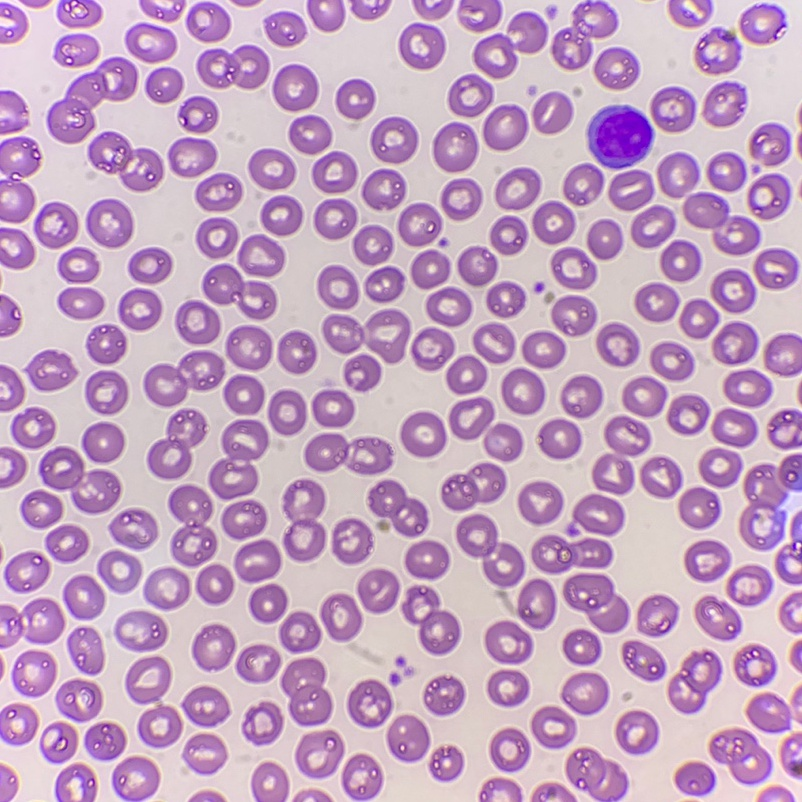RBC: (48, 58, 137, 143), (740, 455, 801, 549), (40, 446, 120, 513), (457, 514, 523, 586), (473, 14, 545, 78), (209, 420, 268, 498), (323, 310, 409, 363), (683, 193, 757, 254), (449, 398, 521, 460), (593, 416, 649, 494), (89, 132, 163, 191), (145, 352, 224, 406), (551, 4, 615, 69), (402, 586, 459, 654), (203, 265, 276, 318), (149, 409, 204, 478), (563, 573, 627, 632), (169, 485, 216, 565), (305, 433, 391, 474), (281, 658, 332, 724), (284, 480, 325, 560), (369, 480, 427, 536), (566, 748, 626, 801), (710, 729, 769, 782), (531, 535, 611, 574), (0, 598, 64, 646), (669, 651, 719, 712), (441, 463, 505, 510), (198, 48, 269, 88), (587, 112, 643, 150), (296, 731, 343, 776), (347, 680, 392, 726), (88, 200, 132, 247), (273, 65, 318, 110), (371, 118, 416, 163), (433, 124, 476, 171), (399, 25, 444, 69), (401, 412, 445, 457), (126, 657, 170, 702), (113, 757, 159, 800), (573, 494, 622, 534), (117, 611, 167, 650), (695, 29, 738, 74), (695, 596, 740, 639), (483, 106, 526, 150), (177, 300, 220, 344), (192, 625, 235, 669), (226, 327, 271, 369), (235, 540, 280, 582), (387, 715, 429, 760), (29, 350, 75, 391), (502, 368, 543, 414), (485, 621, 531, 662), (517, 579, 555, 628), (650, 88, 693, 131), (711, 269, 753, 313), (36, 203, 77, 248), (239, 235, 284, 276), (562, 673, 607, 714), (531, 706, 576, 747), (249, 149, 295, 189), (111, 508, 157, 548), (321, 594, 361, 640), (127, 25, 176, 62), (449, 75, 492, 117), (398, 204, 441, 246), (518, 482, 561, 524), (495, 168, 539, 209), (747, 175, 788, 219), (551, 248, 595, 289), (14, 651, 55, 695), (169, 139, 216, 177), (532, 201, 574, 243), (631, 206, 673, 248), (713, 322, 755, 364), (597, 323, 638, 366), (312, 152, 356, 192), (318, 265, 358, 309), (58, 680, 102, 720), (342, 754, 382, 798), (412, 328, 453, 370), (99, 550, 141, 591), (616, 711, 657, 753), (594, 49, 637, 89), (657, 154, 697, 197), (552, 296, 595, 336), (87, 371, 127, 414), (685, 540, 728, 580), (727, 565, 770, 605), (146, 568, 189, 608), (358, 569, 398, 612), (138, 706, 181, 746), (332, 519, 371, 563), (221, 501, 266, 539), (184, 687, 229, 725), (703, 84, 743, 126), (609, 170, 651, 210), (82, 422, 124, 462), (6, 551, 49, 590), (426, 288, 470, 326), (724, 370, 770, 406), (754, 249, 795, 289), (120, 290, 161, 330), (473, 323, 514, 363), (561, 376, 601, 417), (13, 408, 54, 448), (242, 702, 282, 743), (362, 170, 404, 209), (314, 200, 356, 239), (65, 575, 104, 617), (184, 734, 226, 773), (405, 540, 448, 578), (268, 390, 305, 434), (196, 174, 241, 210), (441, 179, 481, 219), (563, 164, 602, 205), (196, 219, 237, 258), (623, 377, 664, 416), (641, 457, 680, 498), (679, 487, 718, 528), (279, 612, 320, 651), (490, 729, 529, 770), (289, 116, 331, 154), (712, 409, 755, 446), (747, 694, 790, 731), (660, 241, 699, 281), (667, 395, 707, 434), (539, 419, 579, 458), (637, 595, 676, 635), (734, 645, 773, 685), (533, 92, 571, 133), (261, 197, 302, 235), (650, 342, 691, 380), (699, 449, 740, 487), (622, 641, 663, 679), (423, 676, 464, 714), (635, 284, 677, 321), (279, 331, 316, 373), (522, 331, 564, 368), (237, 645, 280, 681), (69, 628, 103, 673), (353, 225, 392, 264), (87, 325, 126, 364), (749, 125, 787, 165), (458, 247, 496, 287), (312, 390, 353, 427), (47, 524, 88, 561), (129, 248, 172, 283), (447, 355, 486, 393), (225, 375, 263, 414), (740, 7, 780, 44), (764, 335, 801, 375), (22, 490, 62, 527), (487, 670, 528, 706), (187, 6, 229, 41), (0, 179, 34, 222), (411, 250, 449, 288), (0, 139, 39, 176), (680, 299, 717, 338), (86, 722, 125, 759), (57, 764, 96, 801), (336, 80, 373, 118), (196, 565, 233, 603), (249, 584, 286, 622), (59, 288, 104, 319), (252, 763, 288, 801), (707, 154, 743, 191), (490, 217, 526, 254), (1, 705, 37, 742), (179, 97, 217, 132), (365, 267, 403, 302), (486, 282, 524, 317), (60, 248, 99, 282), (587, 219, 620, 259), (458, 0, 500, 31), (563, 629, 600, 664), (0, 230, 34, 268), (43, 723, 77, 761), (146, 69, 183, 103), (768, 410, 801, 448), (344, 356, 380, 390), (266, 14, 304, 46), (675, 762, 713, 794), (57, 37, 98, 66), (308, 0, 344, 31), (0, 365, 24, 411), (60, 1, 101, 27), (0, 447, 26, 488), (430, 747, 463, 779), (479, 778, 521, 801), (0, 8, 26, 43), (0, 295, 19, 336), (532, 783, 574, 801), (413, 0, 452, 19), (352, 0, 384, 19), (781, 747, 801, 777), (0, 92, 25, 115), (669, 0, 691, 25), (780, 607, 801, 631), (0, 772, 16, 801), (782, 541, 801, 561), (141, 0, 160, 17), (770, 787, 792, 801), (192, 791, 222, 801), (0, 121, 17, 134), (619, 151, 634, 165), (24, 0, 47, 7), (785, 573, 801, 583), (695, 0, 709, 11), (314, 792, 329, 801), (173, 0, 185, 10), (793, 689, 801, 704), (236, 0, 255, 6), (793, 733, 801, 746), (792, 593, 801, 604), (162, 13, 173, 21), (380, 522, 388, 530), (405, 667, 413, 675), (796, 661, 801, 669), (797, 641, 801, 650), (797, 713, 801, 721), (295, 797, 303, 801)
